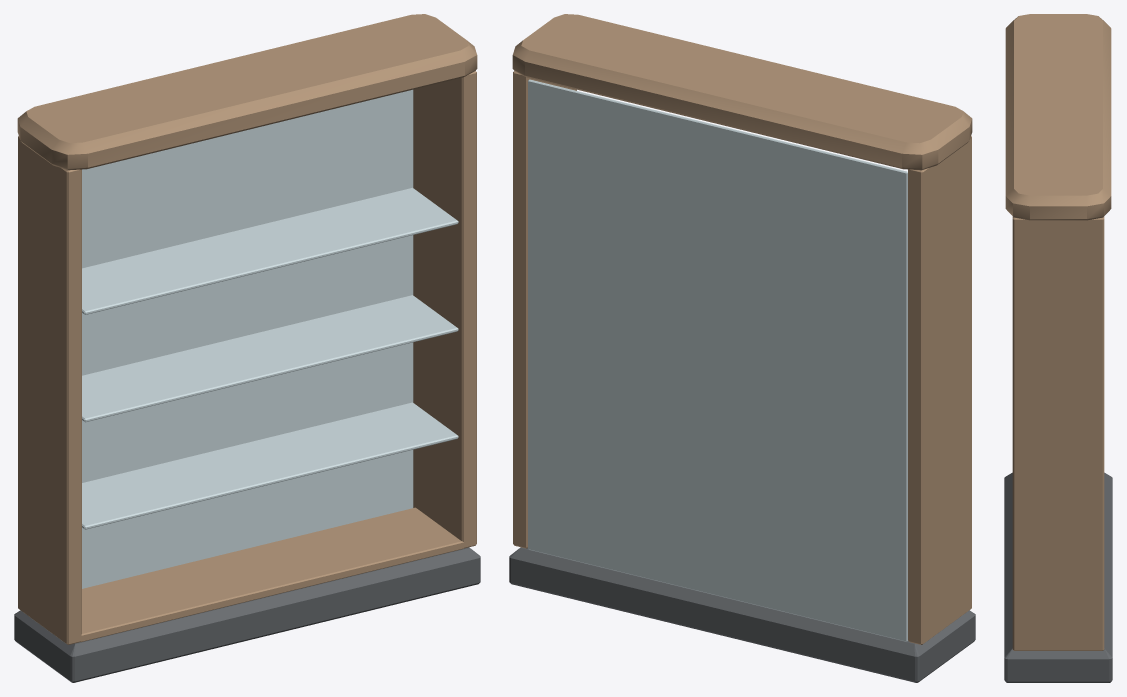
Rendered from restaurant-kitchen-and-dining-back-bar-shelving-c20d061b__16517.glb.
3 views of the same model, side by side, from view 1: azimuth 30°, elevation 25°; view 2: azimuth 150°, elevation 25°; view 3: azimuth 270°, elevation 25° (orthographic). The views are drawn at different scales.
Parts seen in each view (by area): view 1: back-bar-shelving; view 2: back-bar-shelving; view 3: back-bar-shelving.
Boxes of the visible parts, left/top/right/bottom form: back-bar-shelving: left=14, top=14, right=480, bottom=682; back-bar-shelving: left=509, top=14, right=975, bottom=682; back-bar-shelving: left=1004, top=14, right=1112, bottom=682.
Bounding box in the file's own units: 1.65 × 1.99 × 0.4001.
